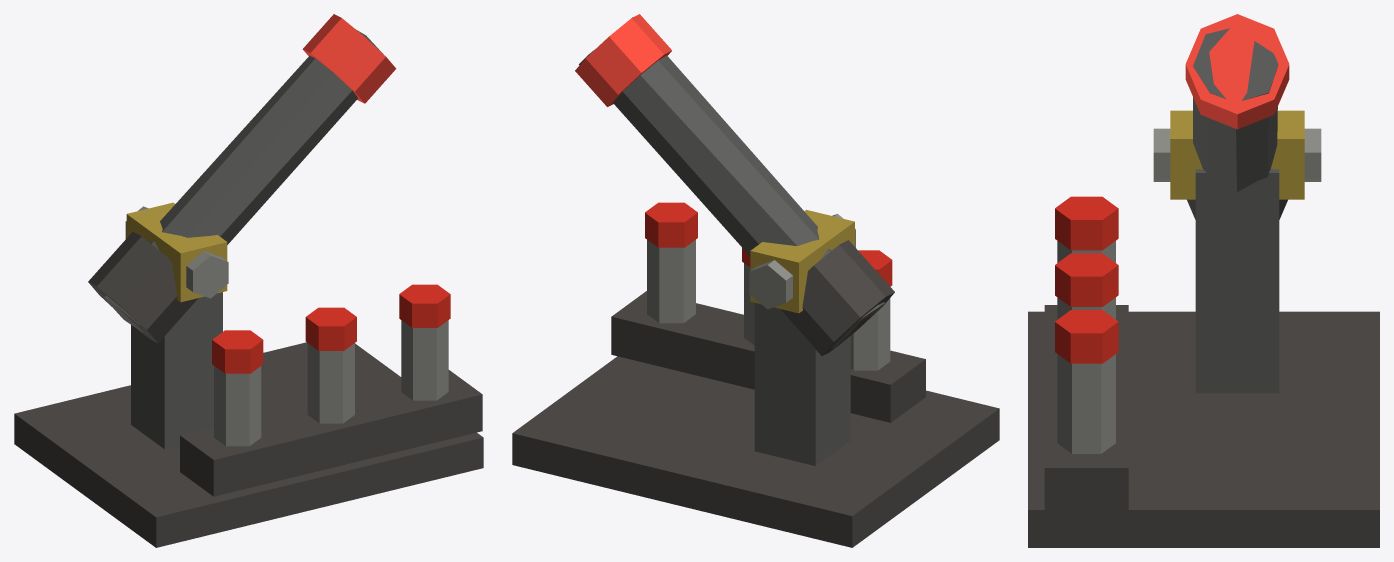
Rendered from util_flare.glb.
3 renders of one model, left to right at view 1: azimuth 30°, elevation 25°; view 2: azimuth 150°, elevation 25°; view 3: azimuth 270°, elevation 25°, orthographic. The views are drawn at different scales.
Visible parts, largest first — view 1: util_flare; view 2: util_flare; view 3: util_flare.
Boxes of the visible parts, left/top/right/bottom form: util_flare: left=14, top=14, right=483, bottom=547; util_flare: left=512, top=14, right=999, bottom=547; util_flare: left=1028, top=14, right=1379, bottom=547.
Bounding box in the file's own units: 0.57 × 0.6575 × 0.42.
